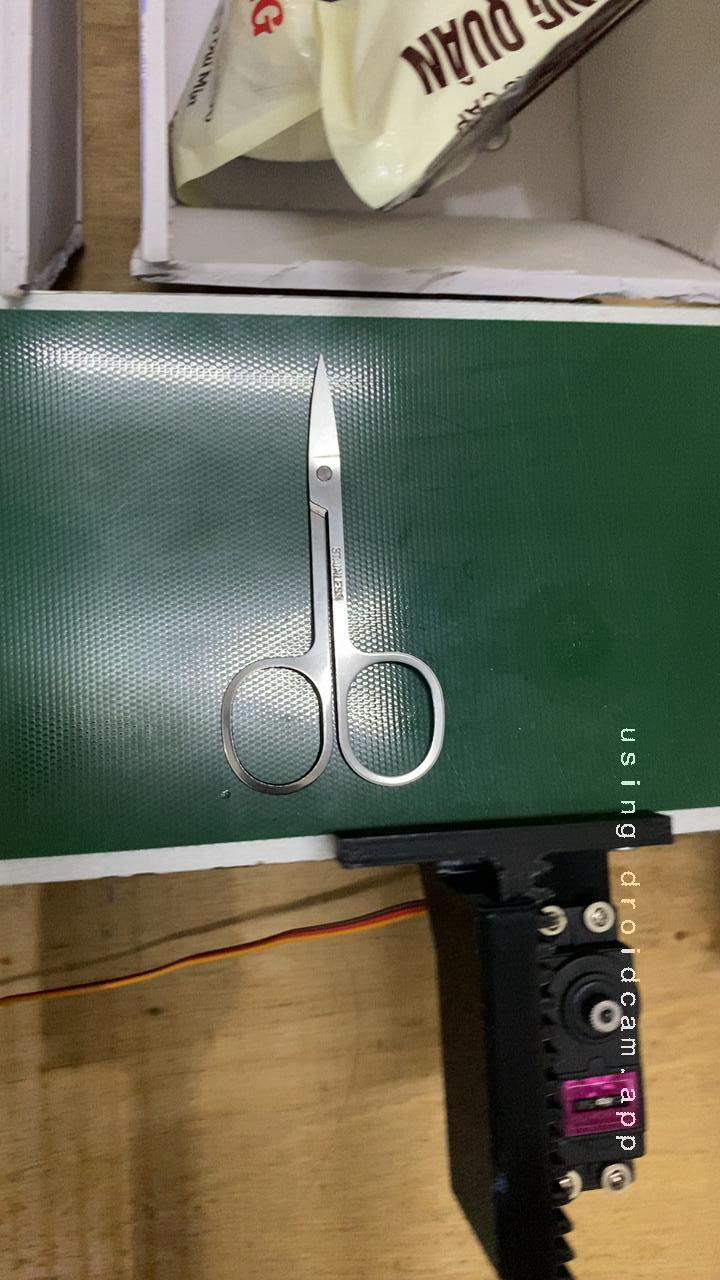scissor: (174, 381, 470, 812)
